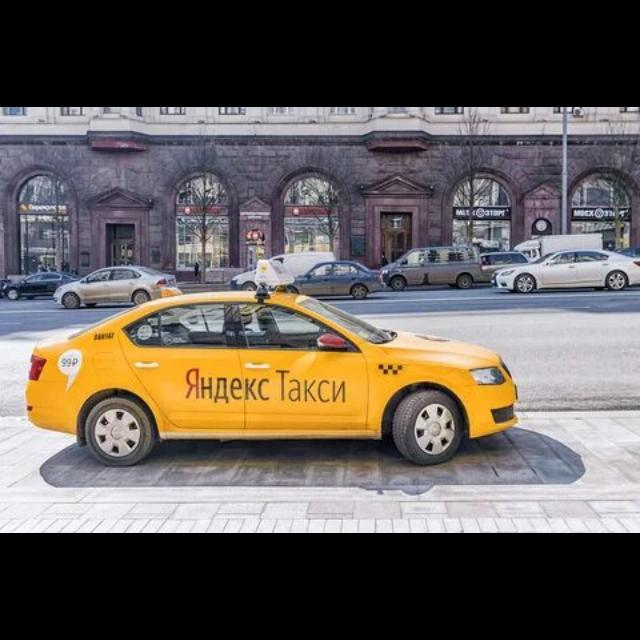taxi: (25, 282, 519, 468)
